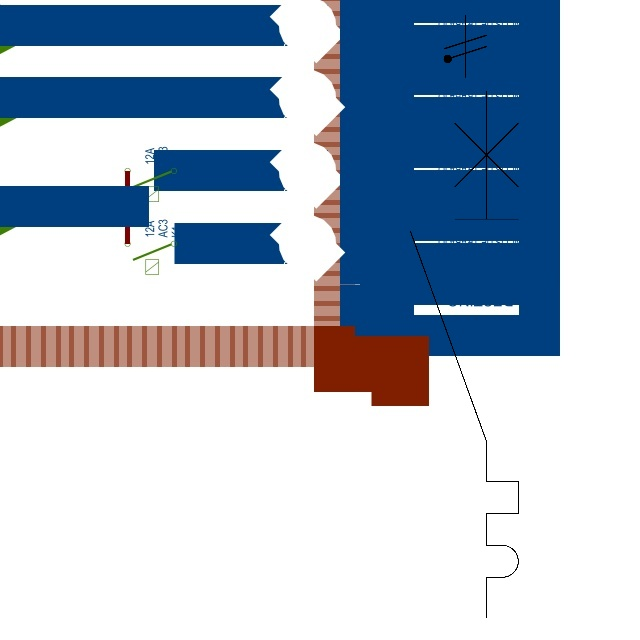interruptor_termomagnetico: (397, 77, 532, 631)
